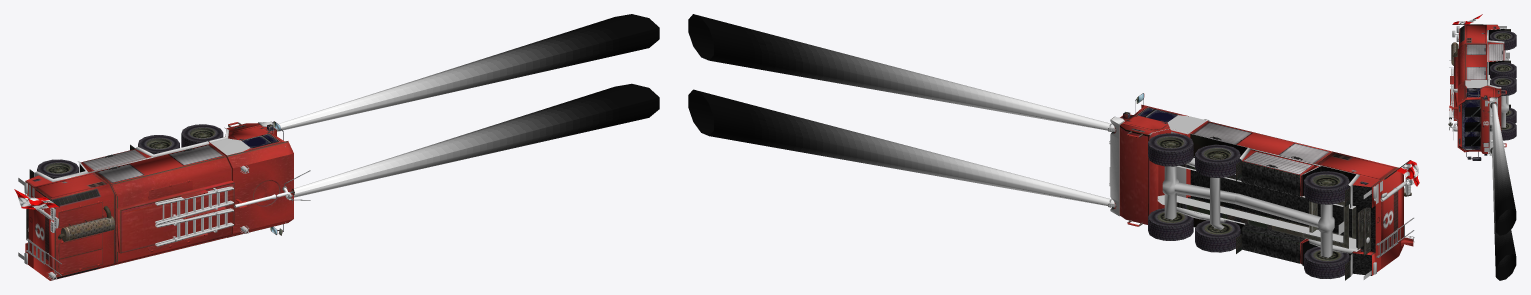
The picture shows the model from 3 angles, left to right: view 1: azimuth 30°, elevation 25°; view 2: azimuth 150°, elevation 25°; view 3: azimuth 270°, elevation 25°; orthographic projection. The views are drawn at different scales.
Parts seen in each view (by area): view 1: licht, tank, tankadd2, kabd, tankadd1, kaba, 4leiter, radf, auspuff, kots, details, flagge (+1 smaller); view 2: licht, tank, rahmen2, kaba, radp, radf, kots, rahmen, bumber, details, keile, tankadd1; view 3: licht, tank, kaba, radf, radp, alpha2, glassf, details, tankadd2, kots, bumber, rahmen2 (+6 smaller).
Part boxes in pixels (x1,y1,x2,y2): licht: (276, 14, 659, 197); tank: (25, 144, 231, 280); tankadd2: (117, 180, 246, 253); kabd: (233, 153, 293, 233); tankadd1: (26, 201, 102, 278); kaba: (209, 121, 293, 237); 4leiter: (155, 186, 233, 246); radf: (37, 124, 223, 176); auspuff: (58, 206, 114, 241); kots: (29, 127, 228, 181); details: (18, 138, 250, 279); flagge: (14, 189, 58, 209); licht: (688, 14, 1111, 205); tank: (1190, 121, 1410, 275); rahmen2: (1157, 156, 1360, 257); kaba: (1114, 93, 1208, 226); radp: (1148, 137, 1349, 278); radf: (1148, 133, 1349, 264); kots: (1148, 128, 1359, 280); rahmen: (1176, 157, 1356, 248); bumber: (1108, 116, 1124, 216); details: (1109, 115, 1414, 279); keile: (1357, 207, 1370, 255); tankadd1: (1376, 217, 1414, 257); licht: (1492, 104, 1516, 280); tank: (1452, 24, 1504, 85); kaba: (1457, 81, 1506, 160); radf: (1490, 30, 1516, 131); radp: (1490, 33, 1516, 140); alpha2: (1465, 107, 1480, 146); glassf: (1462, 99, 1479, 149); details: (1452, 26, 1509, 151); tankadd2: (1449, 57, 1457, 120); kots: (1487, 28, 1510, 107); bumber: (1488, 97, 1497, 155); rahmen2: (1488, 50, 1508, 127).
Size of the model in its own units: 7.72 by 1.26 by 1.07.
